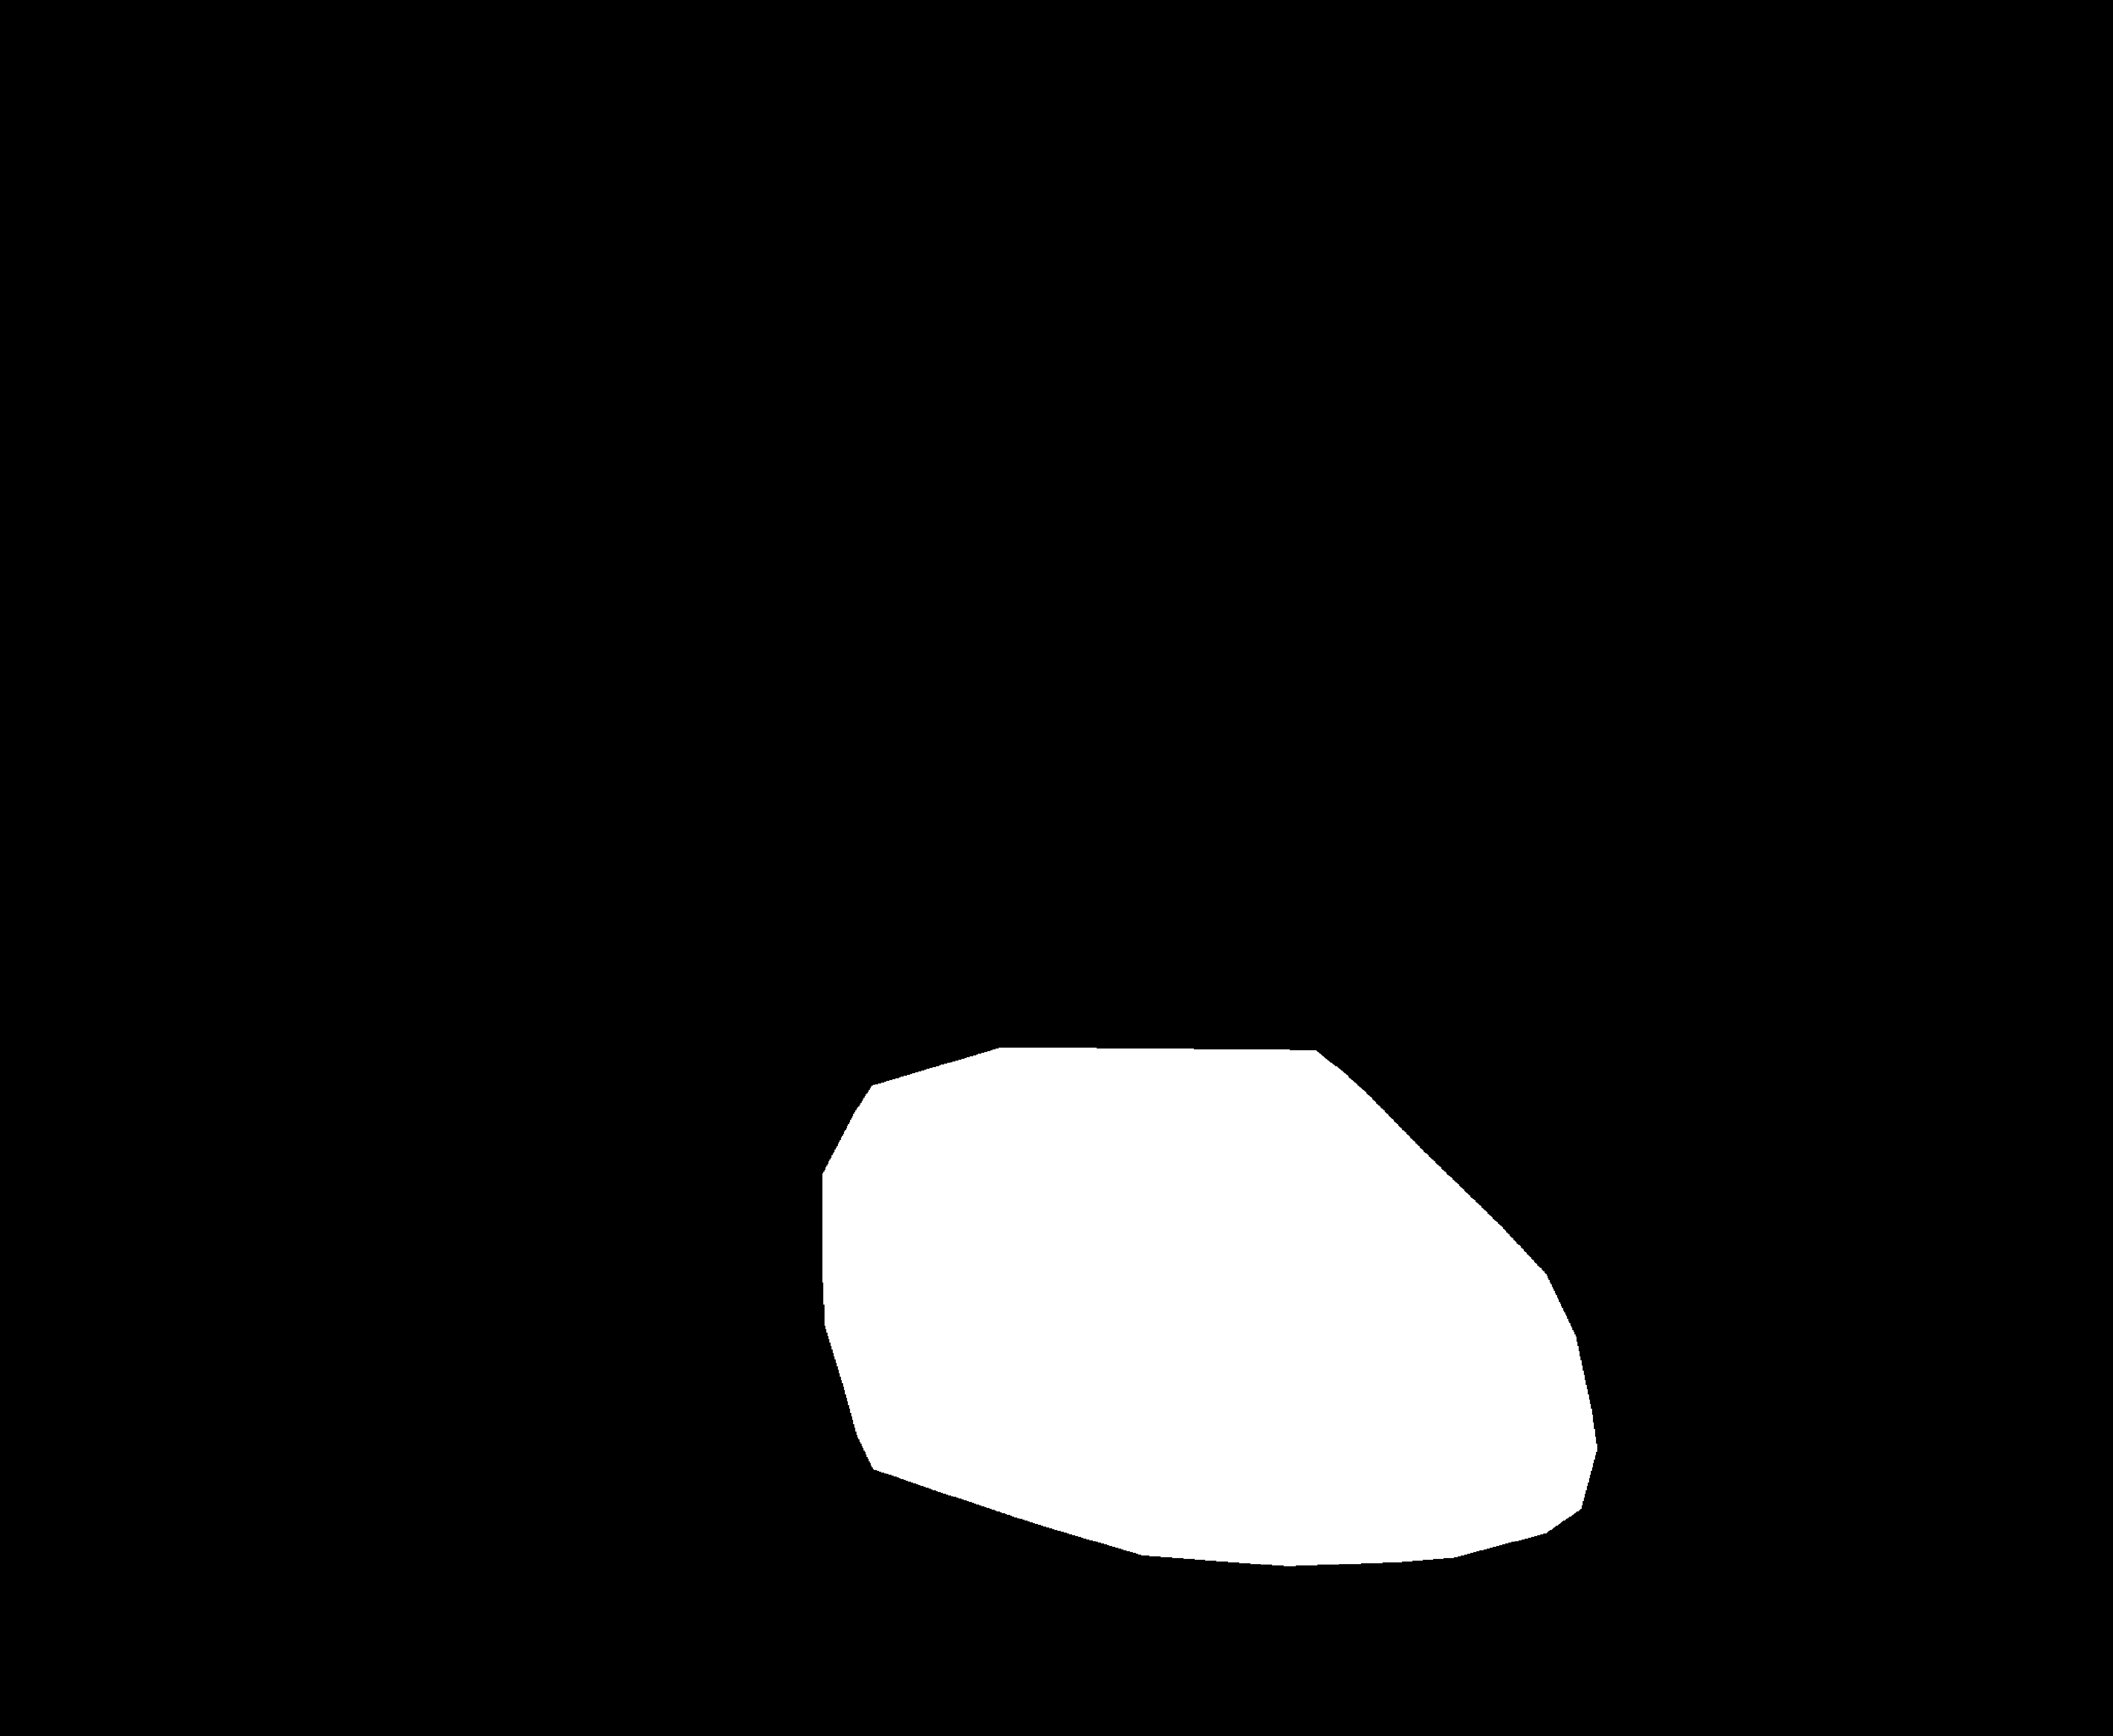heart: (811, 1043, 1622, 1555)
left_lung: (204, 223, 986, 1734)
right_lung: (1106, 193, 1843, 1690)
